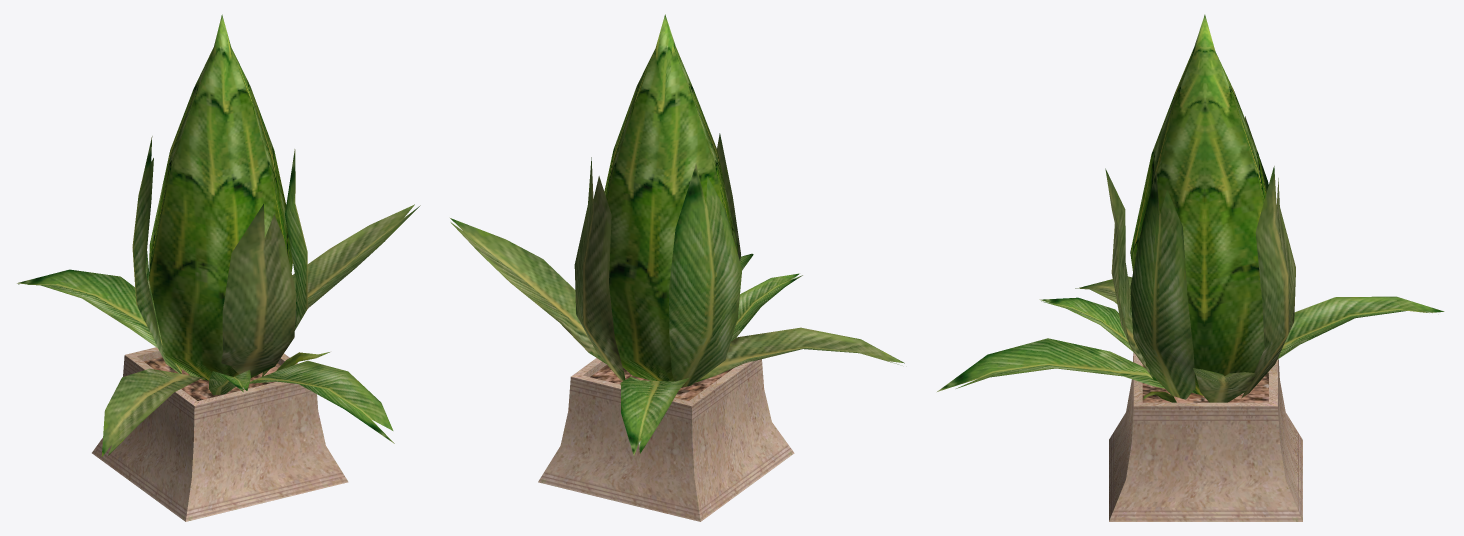
The model's file is frn_all_plant_potted_lg_s1_l0.fbx.
The picture shows the model from 3 angles, left to right: view 1: azimuth 30°, elevation 25°; view 2: azimuth 150°, elevation 25°; view 3: azimuth 270°, elevation 25°; orthographic projection. The views are drawn at different scales.
Visible parts, largest first — view 1: mesh_node; view 2: mesh_node; view 3: mesh_node.
Part boxes in pixels (<box>): mesh_node: <box>17,14,420,521</box>; mesh_node: <box>450,14,904,521</box>; mesh_node: <box>937,14,1444,521</box>.
Bounding box in the file's own units: 1.52 × 1.69 × 1.68.
